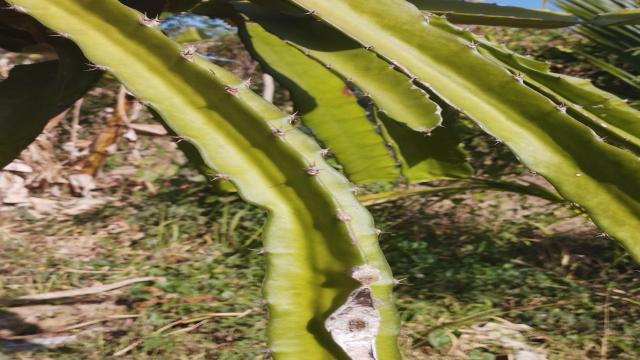stemcanker: (348, 263, 385, 287)
